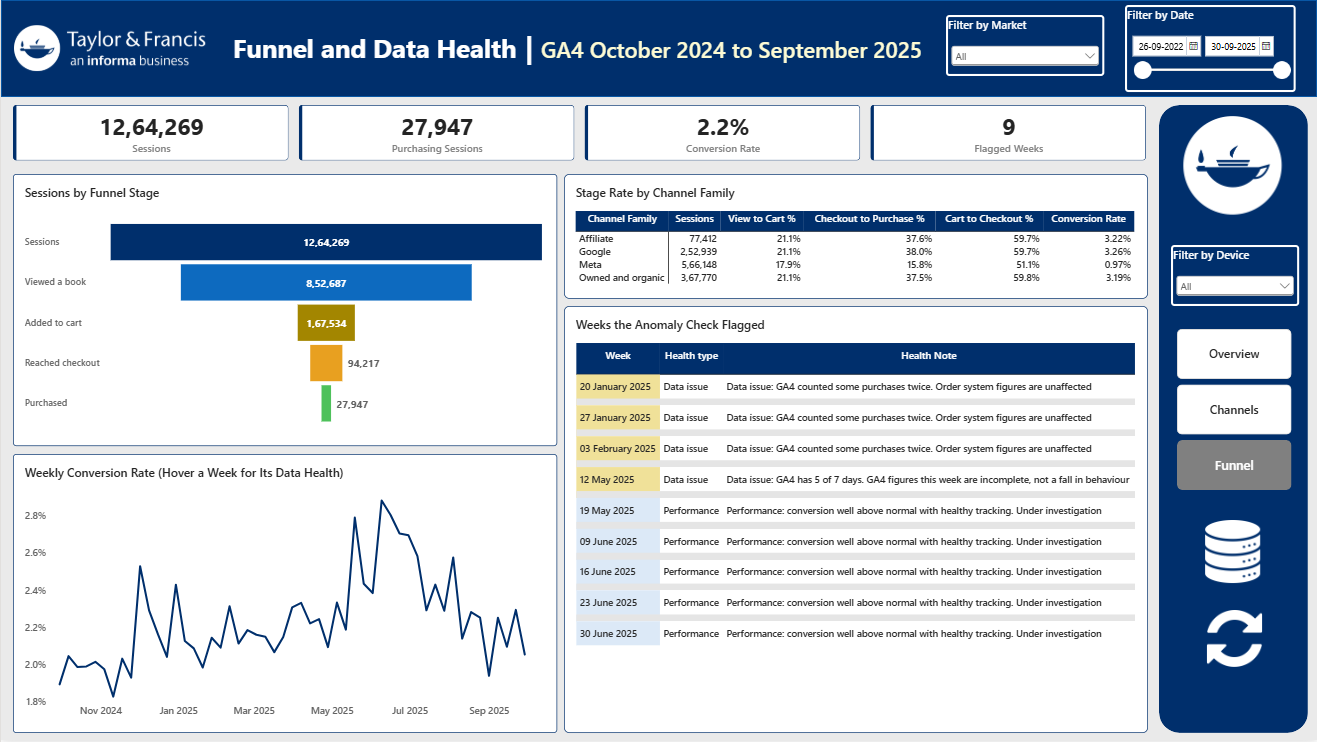

The page's visual inventory and layout, read from the dashboard file:
{"tool":"powerbi","page":{"name":"Funnel","canvas":[1920,1080],"ordinal":3},"visuals":[{"type":"shape","box":[0,0,1920,141.5],"z":0},{"type":"image","box":[19,11.7,278.7,116.7],"z":1000},{"type":"textbox","box":[338.5,37.9,1014,72.9],"z":2000},{"type":"shape","box":[1689.1,153.4,217.5,916.1],"z":3000},{"type":"image","box":[1707,169.8,181.7,143.8],"z":4000},{"type":"cardVisual","fields":{"Data":["_Measures.Sessions","_Measures.Purchasing Sessions","_Measures.Conversion Rate","_Measures.Flagged Weeks"]},"box":[17.9,153.4,1656.4,81.9],"z":5000},{"type":"slicer","title":"Filter by Market","fields":{"Values":["Market.market_name"]},"box":[1379.3,22.3,230.9,89],"z":6000},{"type":"funnel","title":"Sessions by Funnel Stage","fields":{"Y":["_Measures.Funnel Value"],"Category":["Funnel Step.step"]},"box":[17.5,253.9,793.7,396.8],"z":7000},{"type":"pivotTable","title":"Stage Rate by Channel Family","fields":{"Rows":["Channel.family"],"Values":["_Measures.Sessions","_Measures.View to Cart %","_Measures.Checkout to Purchase %","_Measures.Cart to Checkout %","_Measures.Conversion Rate"]},"box":[821.4,253.9,852,182.4],"z":8000},{"type":"lineChart","title":"Weekly Conversion Rate (Hover a Week for Its Data Health)","fields":{"Category":["Date.Week Start"],"Y":["_Measures.Conversion Rate"]},"box":[17.5,662.4,793.7,407.1],"z":9000},{"type":"tableEx","title":"Weeks the Anomaly Check Flagged","fields":{"Values":["weekly_health.week","weekly_health.health_type","weekly_health.health_note"]},"box":[821.4,446.4,852,623],"z":10000},{"type":"slicer","title":"Filter by Date","fields":{"Values":["Date.Date"]},"box":[1640,7.4,248.8,126.6],"z":11000},{"type":"slicer","title":"Filter by Device","fields":{"Values":["funnel_daily.device"]},"box":[1707,357.4,186.7,89],"z":12000},{"type":"pageNavigator","box":[1715.7,480,167.8,236.4],"z":13000},{"type":"image","box":[1736.2,890,126.9,83.2],"z":14000},{"type":"image","box":[1744.9,758.7,103.6,91.9],"z":15000}]}

Visuals, with their boxes in screenshot pixels (x1, y1, x2, y2), scaled from the page's 1920x1080 canvas onto the 1317x742 screenshot:
shape: [0, 0, 1316, 97]
image: [13, 8, 204, 88]
textbox: [232, 26, 928, 76]
shape: [1159, 105, 1308, 735]
image: [1171, 117, 1296, 215]
cardVisual - _Measures.Sessions x _Measures.Purchasing Sessions: [12, 105, 1148, 162]
"Filter by Market" slicer: [946, 15, 1104, 76]
"Sessions by Funnel Stage" funnel: [12, 174, 556, 447]
"Stage Rate by Channel Family" pivotTable: [563, 174, 1148, 300]
"Weekly Conversion Rate (Hover a Week for Its Data Health)" lineChart: [12, 455, 556, 735]
"Weeks the Anomaly Check Flagged" tableEx: [563, 307, 1148, 735]
"Filter by Date" slicer: [1125, 5, 1296, 92]
"Filter by Device" slicer: [1171, 246, 1299, 307]
pageNavigator: [1177, 330, 1292, 492]
image: [1191, 611, 1278, 669]
image: [1197, 521, 1268, 584]
